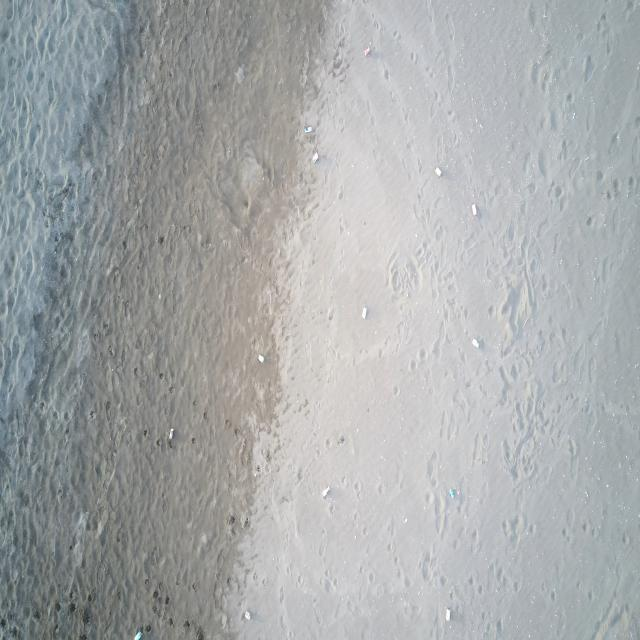Garbage: (235, 65, 243, 83), (243, 609, 251, 620), (360, 307, 367, 319), (472, 337, 480, 347), (364, 44, 371, 55), (448, 487, 456, 496), (256, 353, 263, 363), (322, 486, 328, 497), (444, 607, 449, 620), (433, 167, 440, 176), (313, 151, 318, 163), (471, 203, 476, 215), (304, 125, 312, 132), (134, 631, 141, 639), (168, 427, 172, 440)
